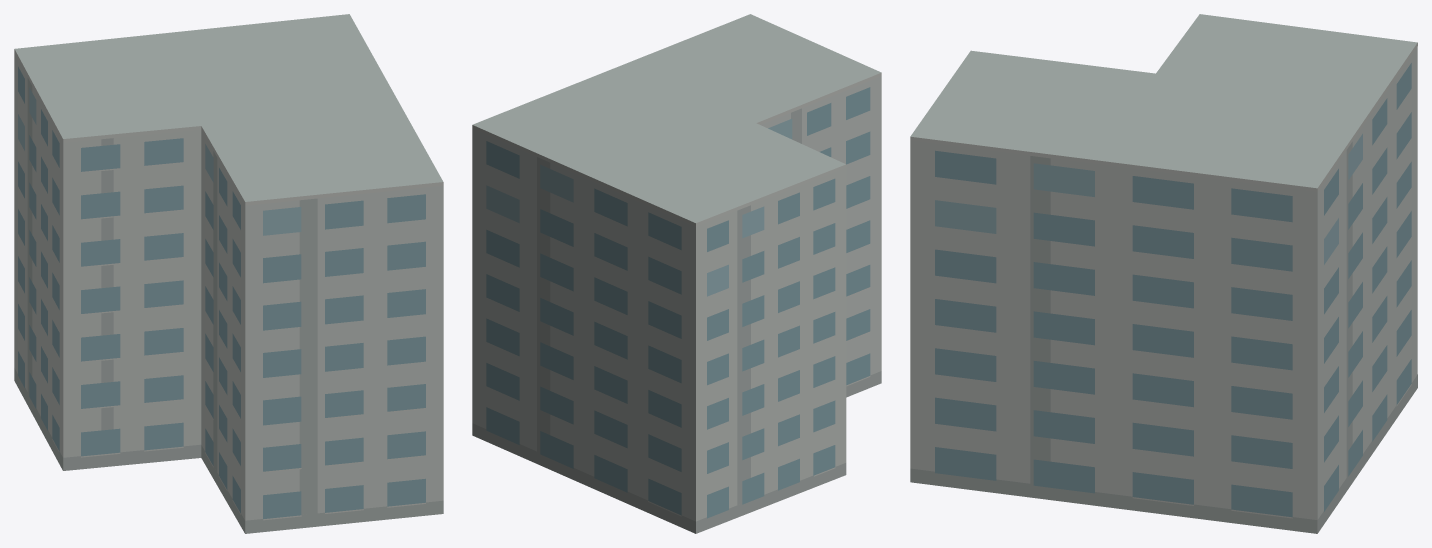
The model's file is survey-upis-32875322.glb.
The picture shows the model from 3 angles, left to right: view 1: azimuth 30°, elevation 25°; view 2: azimuth 150°, elevation 25°; view 3: azimuth 270°, elevation 25°; orthographic projection. The views are drawn at different scales.
Visible parts, largest first — view 1: survey-upis-32875322.tmp; view 2: survey-upis-32875322.tmp; view 3: survey-upis-32875322.tmp.
Boxes of the visible parts, x1,y1,x2,y2 form: survey-upis-32875322.tmp: (14,14,443,533); survey-upis-32875322.tmp: (472,14,881,533); survey-upis-32875322.tmp: (910,14,1417,533).
Bounding box in the file's own units: 23.1 × 21.35 × 28.42.
